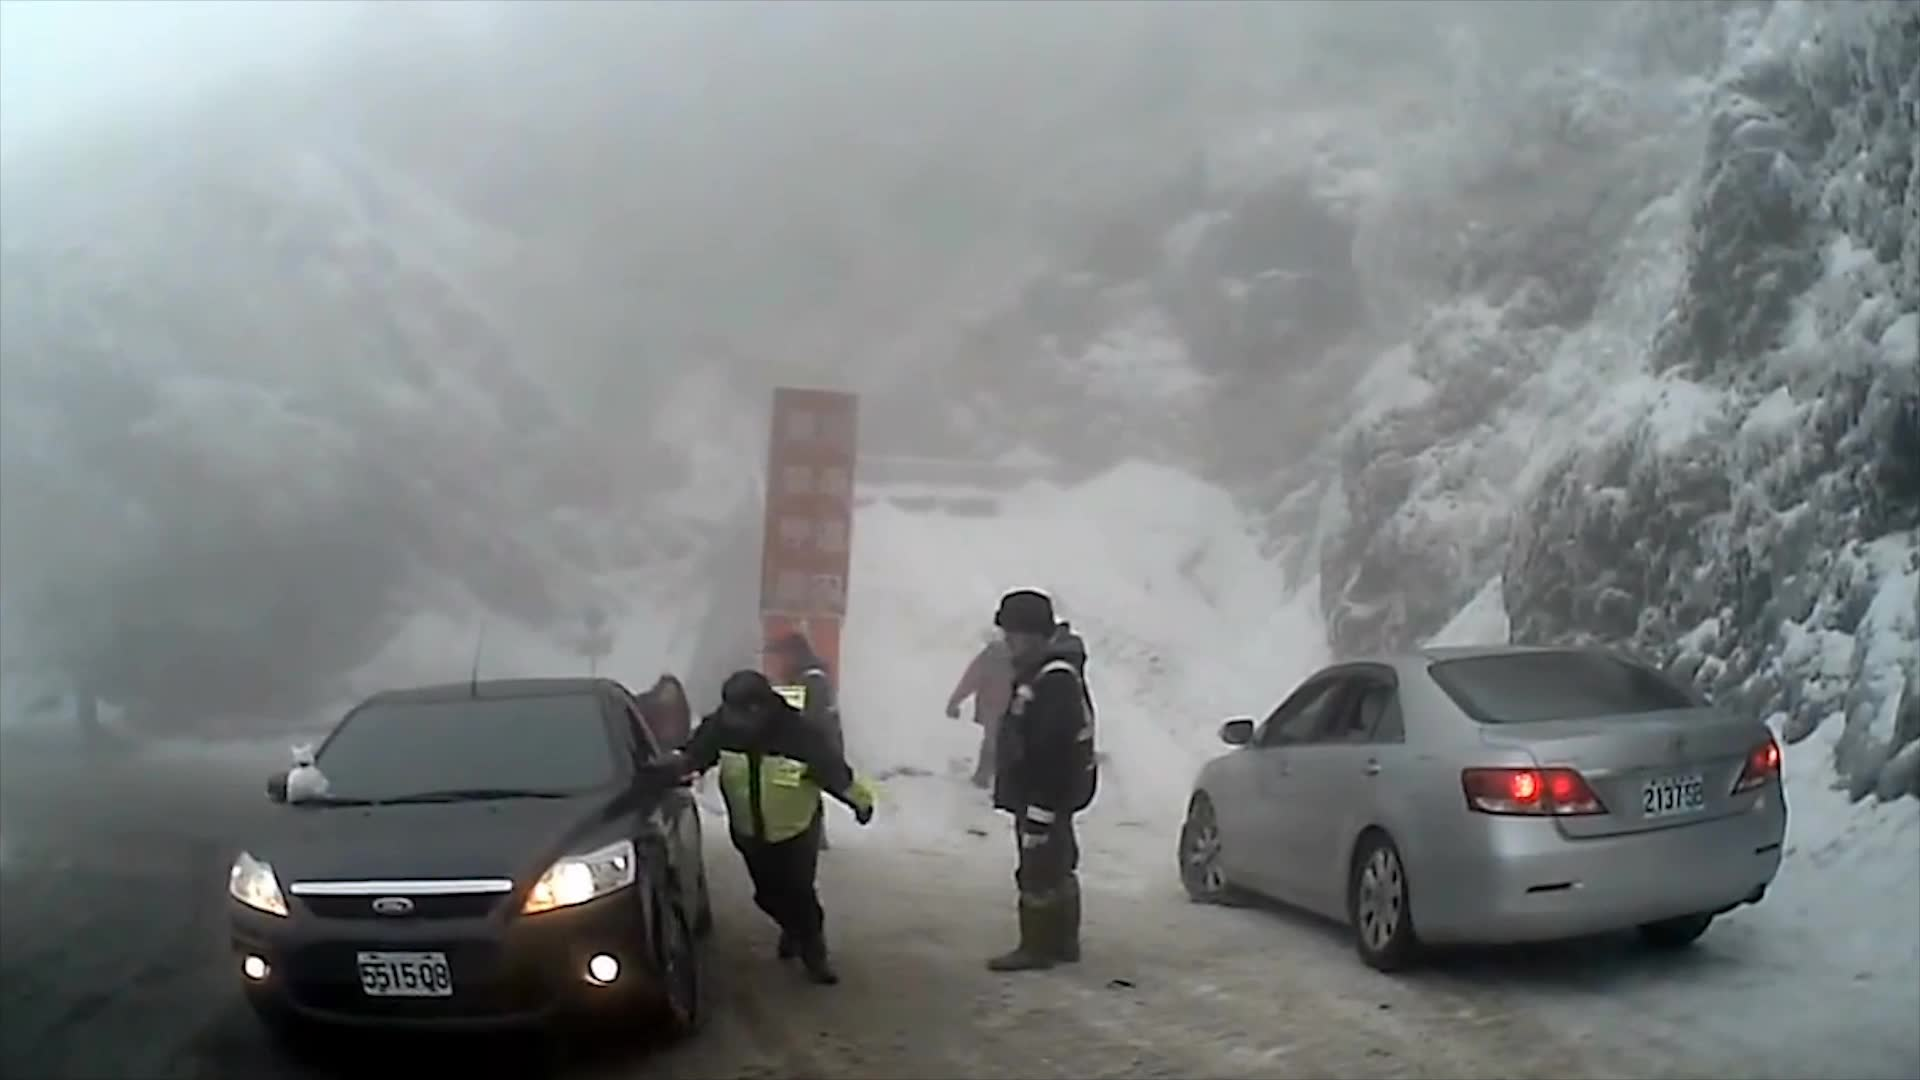pedestrian: (671, 671, 878, 987), (975, 590, 1099, 975), (765, 631, 841, 863), (952, 613, 1040, 798), (617, 671, 697, 852)
vehicle: (1174, 644, 1787, 973), (220, 676, 714, 1046)
